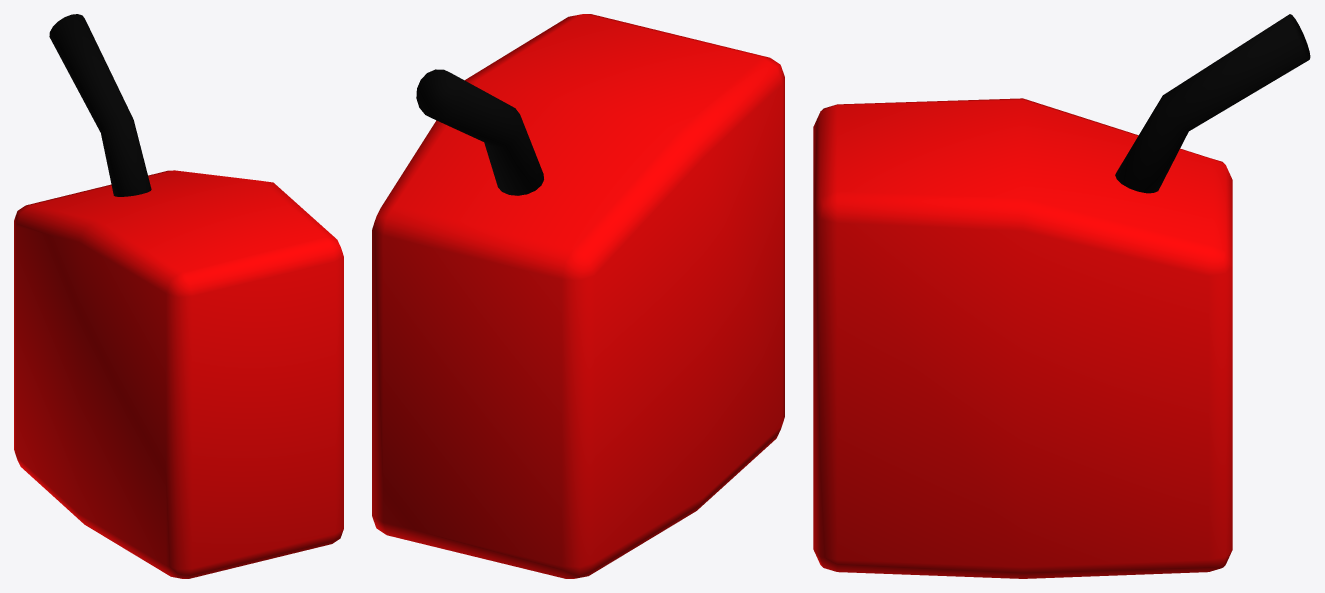
Rendered from Gas Can.fbx.
3 renders of one model, left to right at view 1: azimuth 30°, elevation 25°; view 2: azimuth 150°, elevation 25°; view 3: azimuth 270°, elevation 25°, orthographic. The views are drawn at different scales.
Visible parts, largest first — view 1: Gas Can, Pipe; view 2: Gas Can, Pipe; view 3: Gas Can, Pipe.
Part boxes in pixels (x1,y1,x2,y2): Gas Can: (14, 170, 343, 578); Pipe: (49, 14, 151, 196); Gas Can: (372, 14, 784, 578); Pipe: (416, 69, 543, 195); Gas Can: (813, 98, 1232, 578); Pipe: (1115, 14, 1310, 193).
Size of the model in its own units: 136 by 269 by 237.
